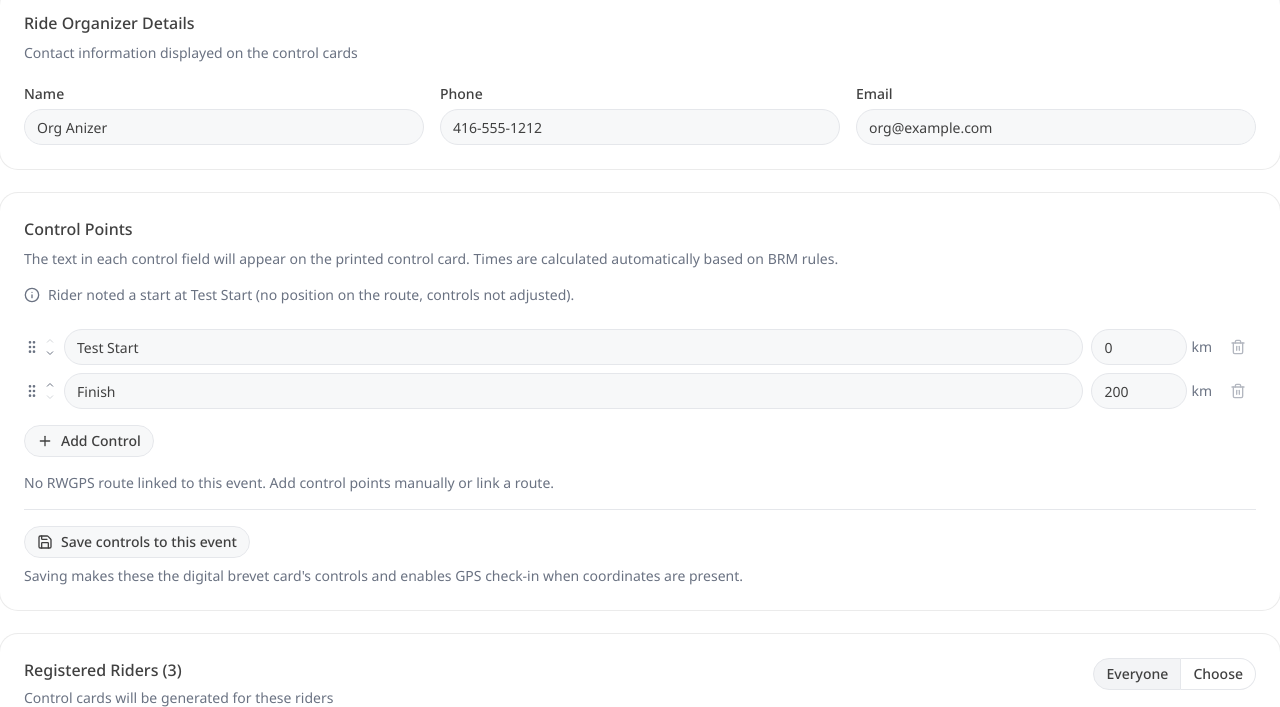
Test: ControlCardsForm rider selection › disables Generate when individual mode has zero riders selected
Click the radio button labelled "Choose" at (1219, 674), box [1181,658,1256,690]
(page scrolled)
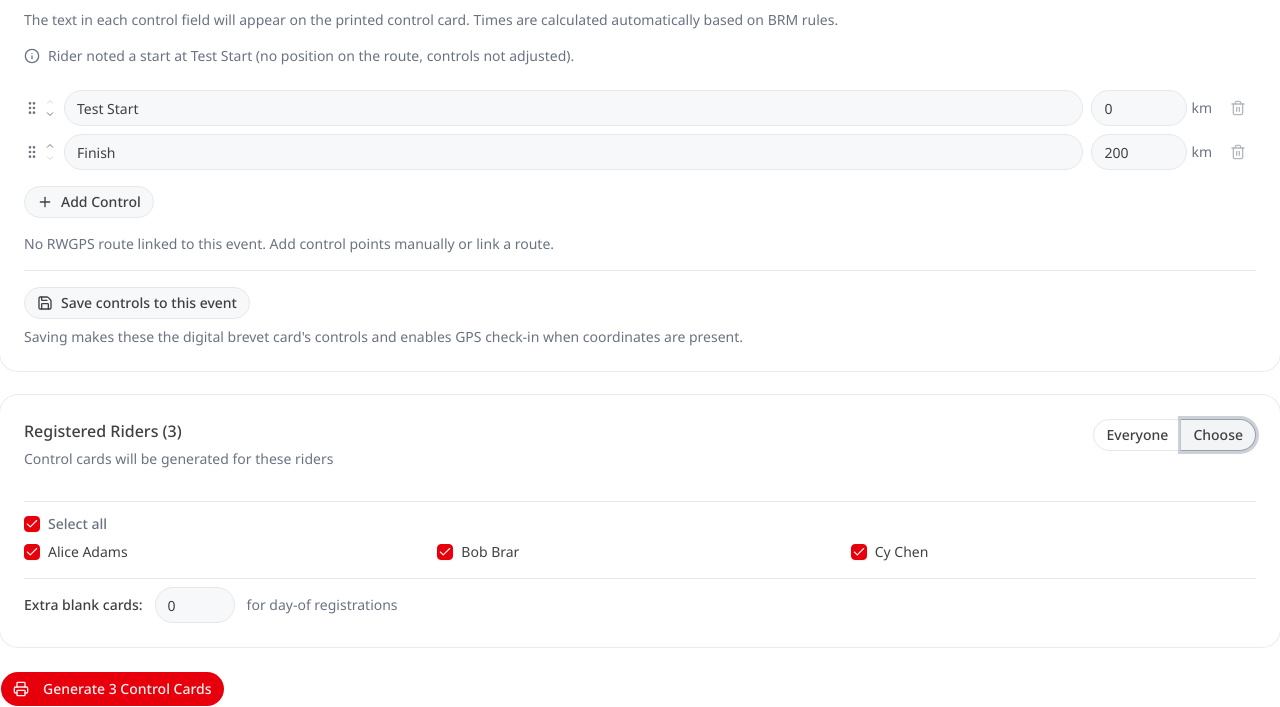
Click the checkbox named "Select all" next to "Select all" at (32, 524), box [24,516,40,532]
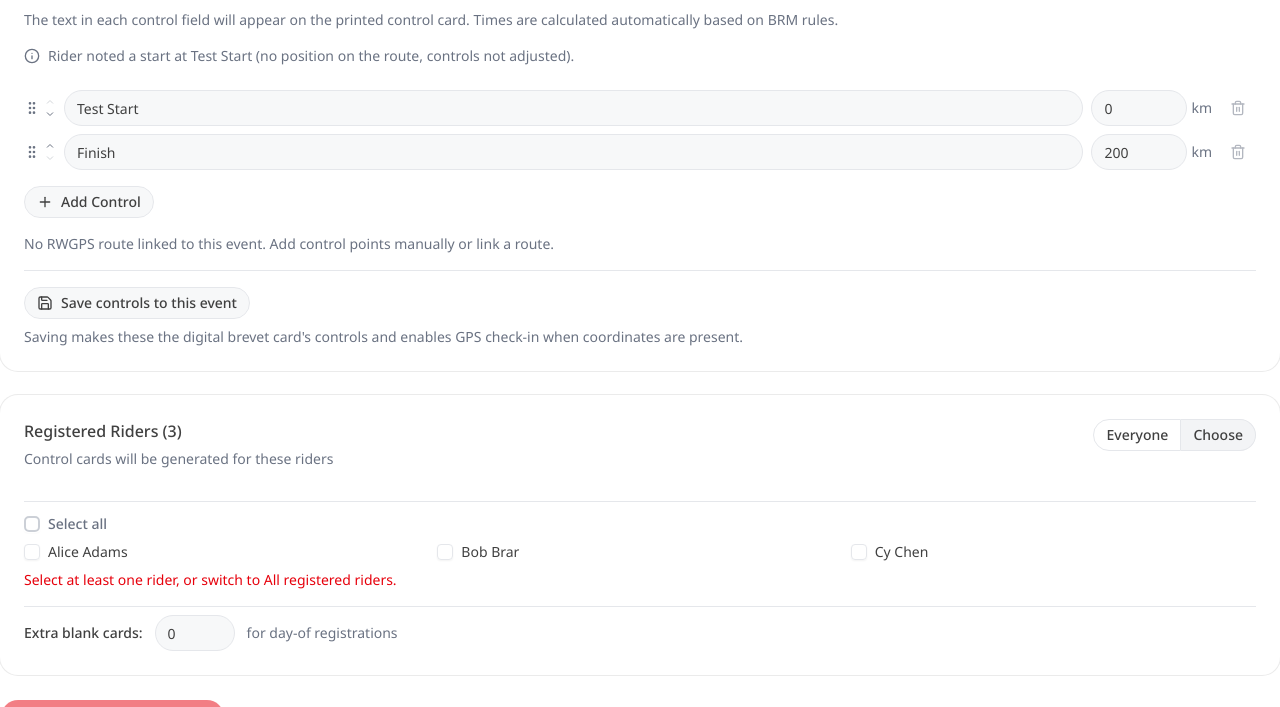
Check: the text "Select at least one rider" is shown, box [24,570,397,589]
